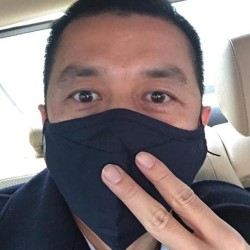mask: (36, 67, 201, 234)
